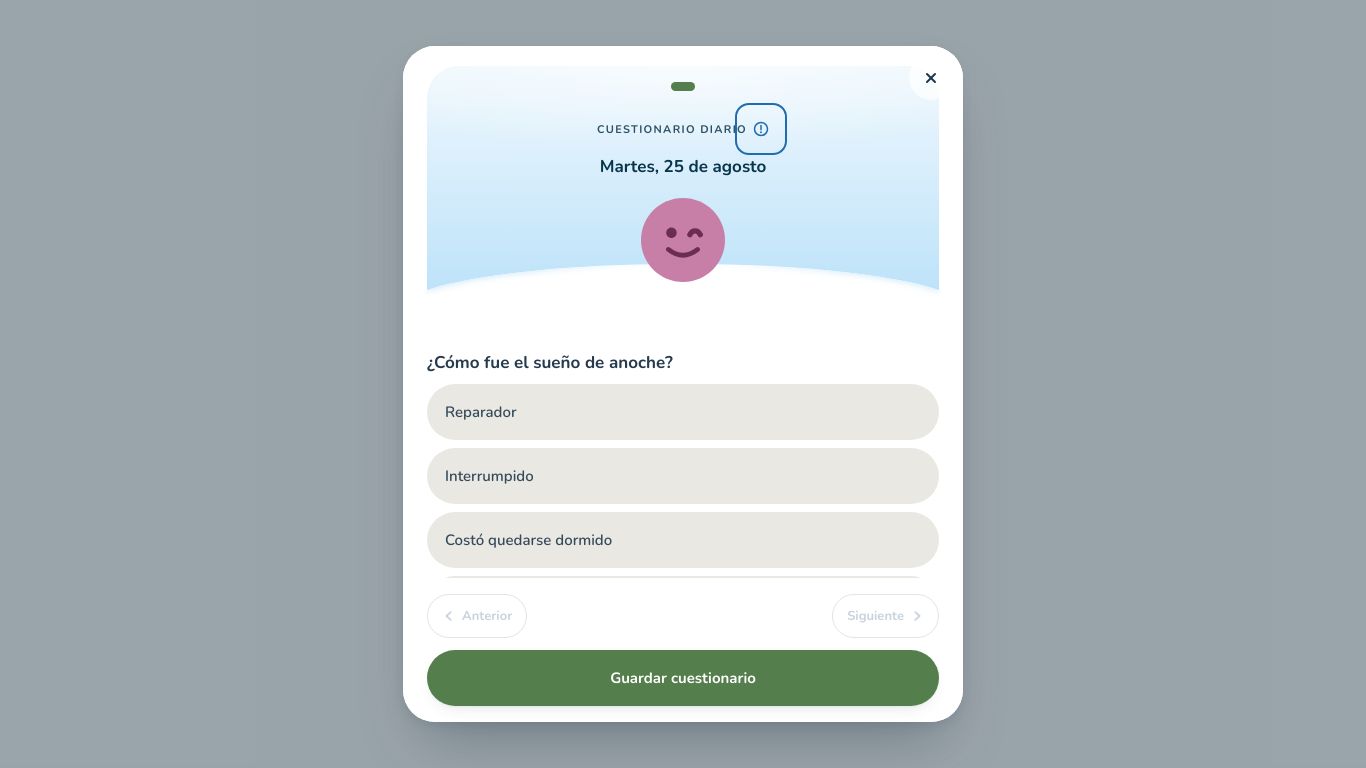
Test: DialogoCuestionario › rechazar la revisión envía las sugeridas tal cual, como accept_default
Step 1. Click the button with class "boton--principal" → [683, 678], box [427, 650, 939, 706]
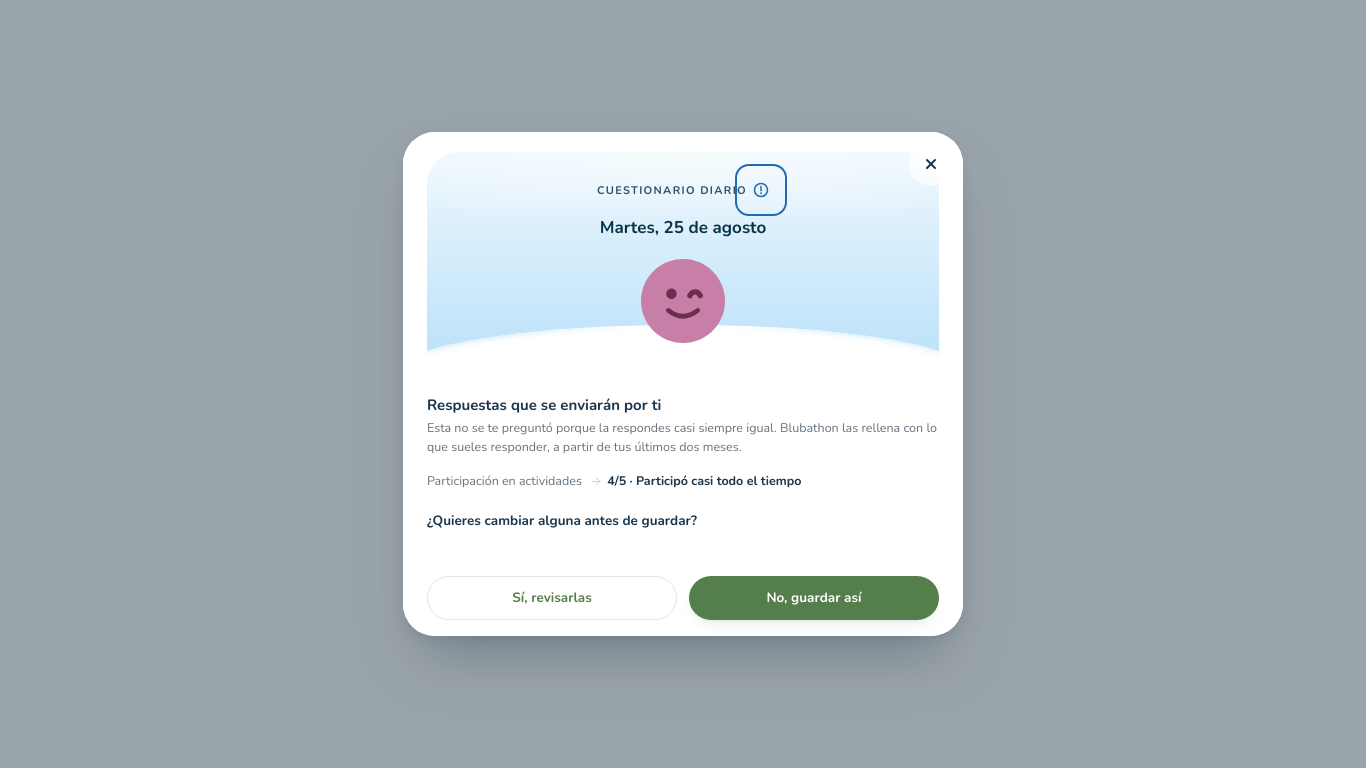
// "No, guardar así" es el botón lleno del pie de la revisión.
Step 2. Click the button with class "boton--principal" → [814, 598], box [689, 576, 939, 620]
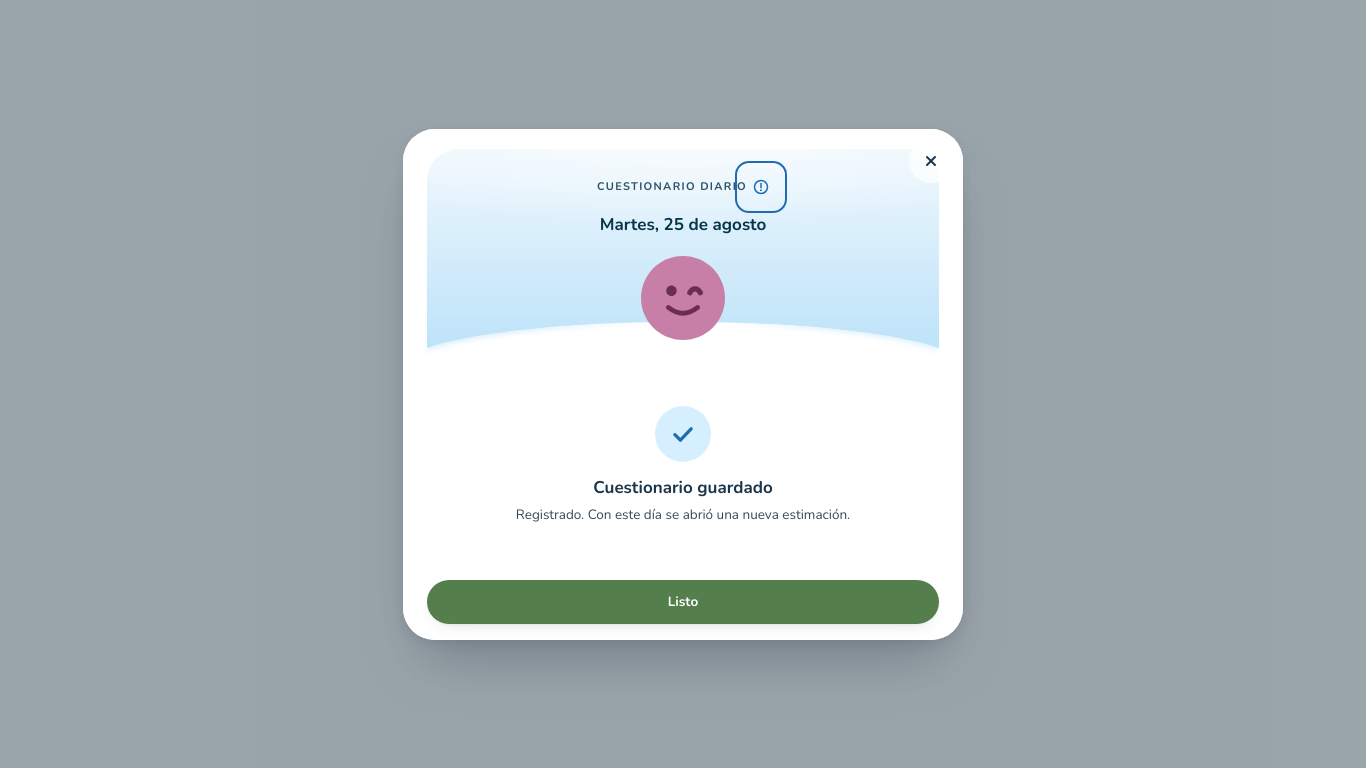
Result: the text "Cuestionario guardado" is shown at [593, 476, 773, 498]
